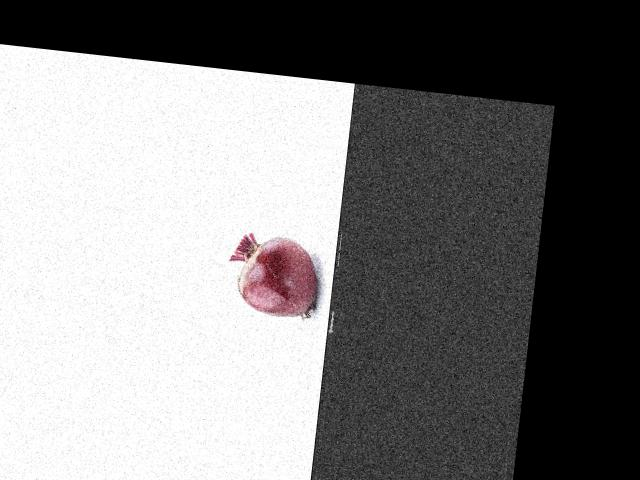beet: (224, 230, 321, 319)
